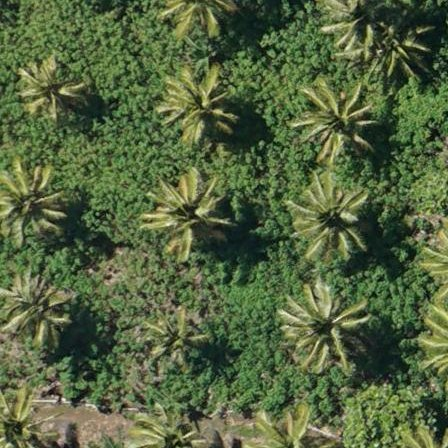palm_tree: (289, 70, 377, 164), (144, 168, 230, 259), (286, 280, 369, 368), (157, 62, 238, 149), (288, 169, 368, 255), (4, 41, 81, 124), (1, 166, 62, 250), (1, 272, 62, 346)
